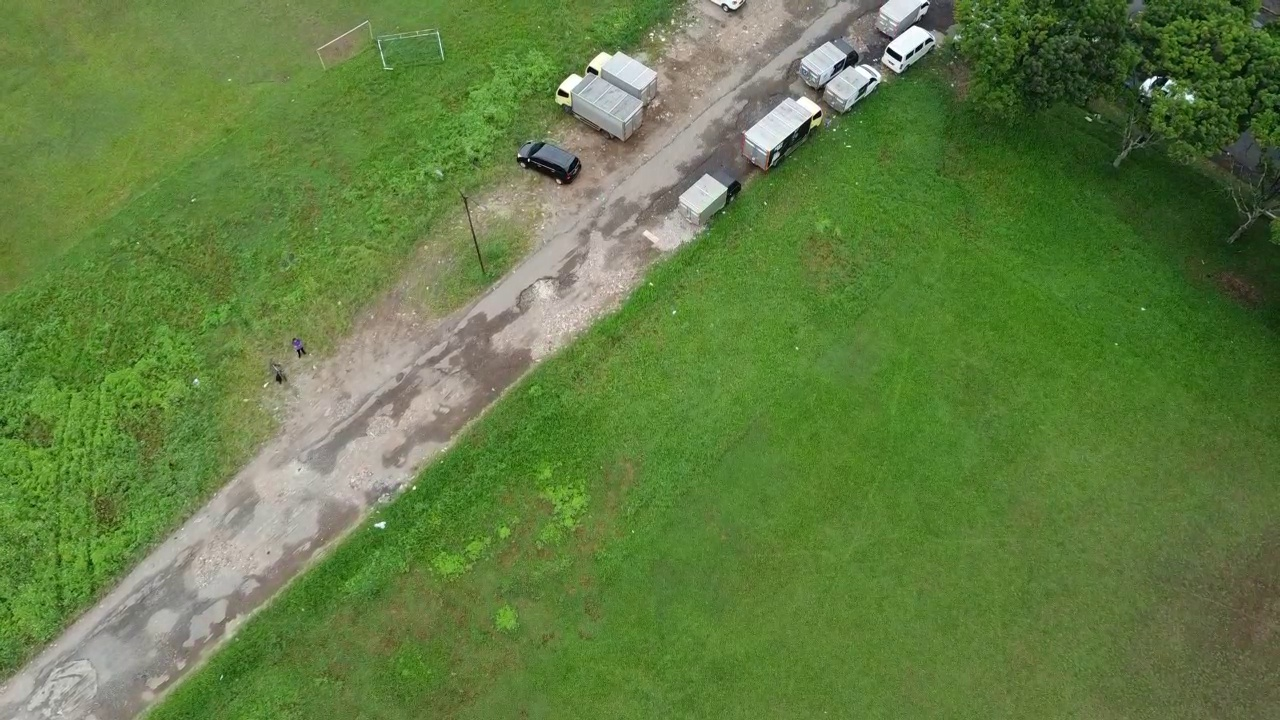mobil: (508, 135, 592, 189), (885, 26, 936, 77)
